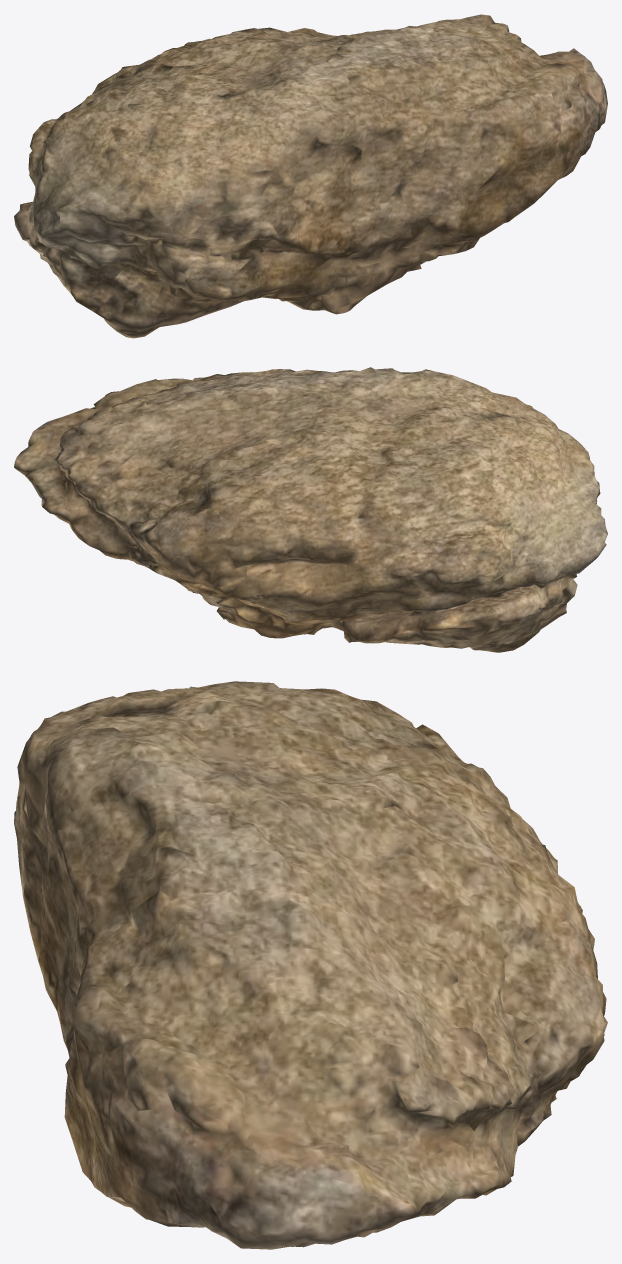
File: masso.glb
3 renders of one model, top to bottom at view 1: azimuth 30°, elevation 25°; view 2: azimuth 150°, elevation 25°; view 3: azimuth 270°, elevation 25°, orthographic. The views are drawn at different scales.
Parts seen in each view (by area): view 1: namaqualand_boulder_05; view 2: namaqualand_boulder_05; view 3: namaqualand_boulder_05.
Boxes of the visible parts, x1,y1,x2,y2 form: namaqualand_boulder_05: (14, 14, 607, 338); namaqualand_boulder_05: (14, 367, 607, 652); namaqualand_boulder_05: (14, 681, 607, 1249).
Bounding box in the file's own units: 1.36 × 0.5339 × 0.7481.
1 material, 1 textured.
